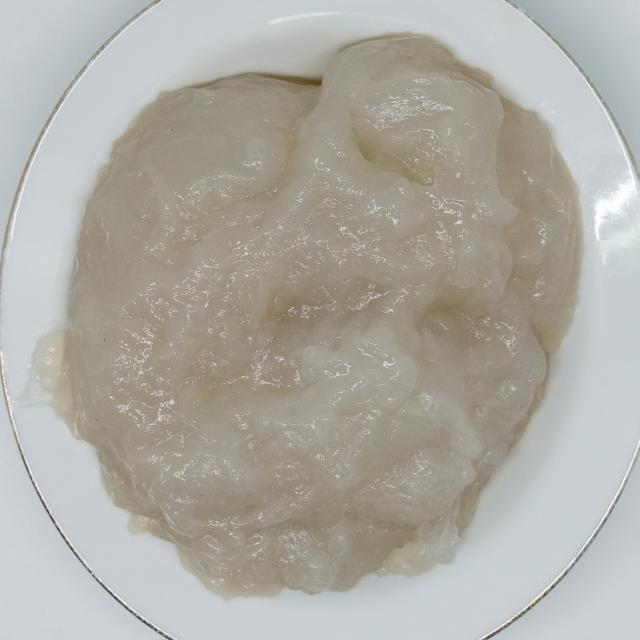Papeda: (51, 13, 593, 606)
